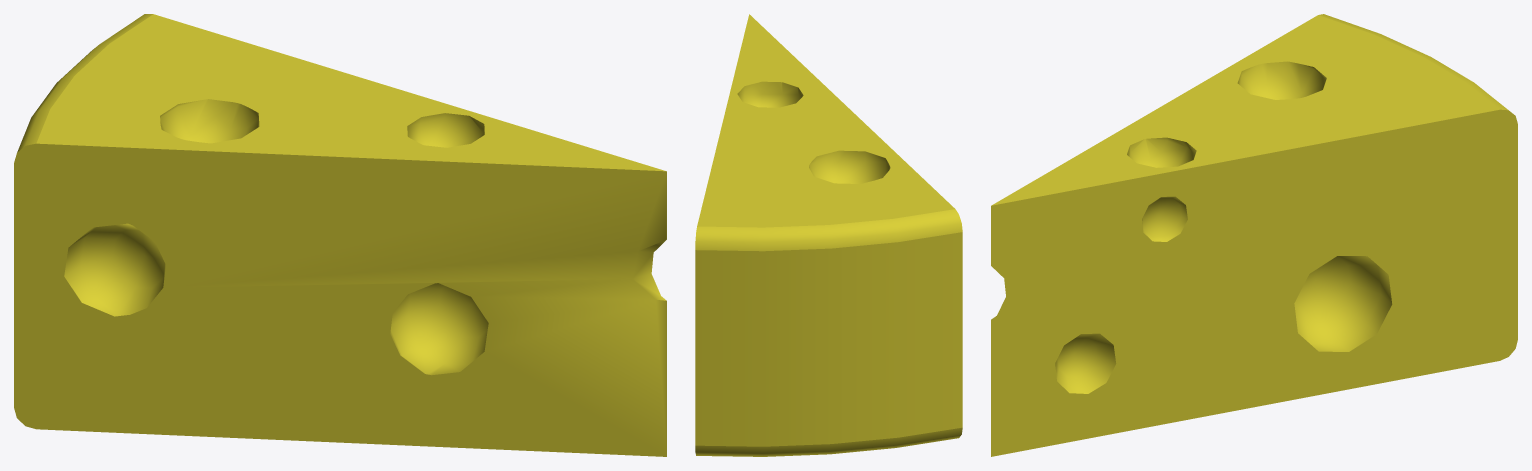
Rendered from GOW_Fridge_Prop_CheeseWedge_01.fbx.
3 views of the same model, side by side, from view 1: azimuth 30°, elevation 25°; view 2: azimuth 150°, elevation 25°; view 3: azimuth 270°, elevation 25° (orthographic). The views are drawn at different scales.
Visible parts, largest first — view 1: GOW_Fridge_Prop_CheeseWedge_01; view 2: GOW_Fridge_Prop_CheeseWedge_01; view 3: GOW_Fridge_Prop_CheeseWedge_01.
Part boxes in pixels (x1=…): GOW_Fridge_Prop_CheeseWedge_01: x1=14, y1=14, x2=666, y2=456; GOW_Fridge_Prop_CheeseWedge_01: x1=695, y1=14, x2=962, y2=456; GOW_Fridge_Prop_CheeseWedge_01: x1=991, y1=14, x2=1517, y2=456.
Bounding box in the file's own units: 11.06 × 6.56 × 12.47.
